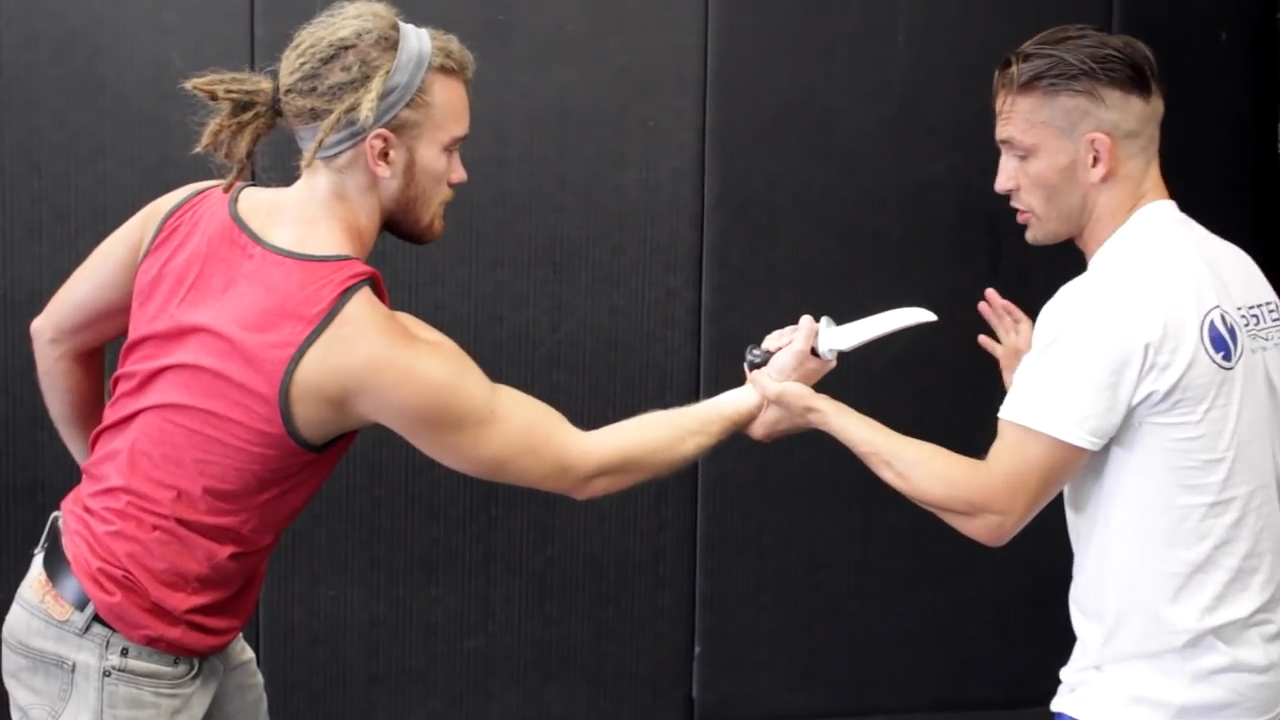knife: (737, 287, 951, 375)
